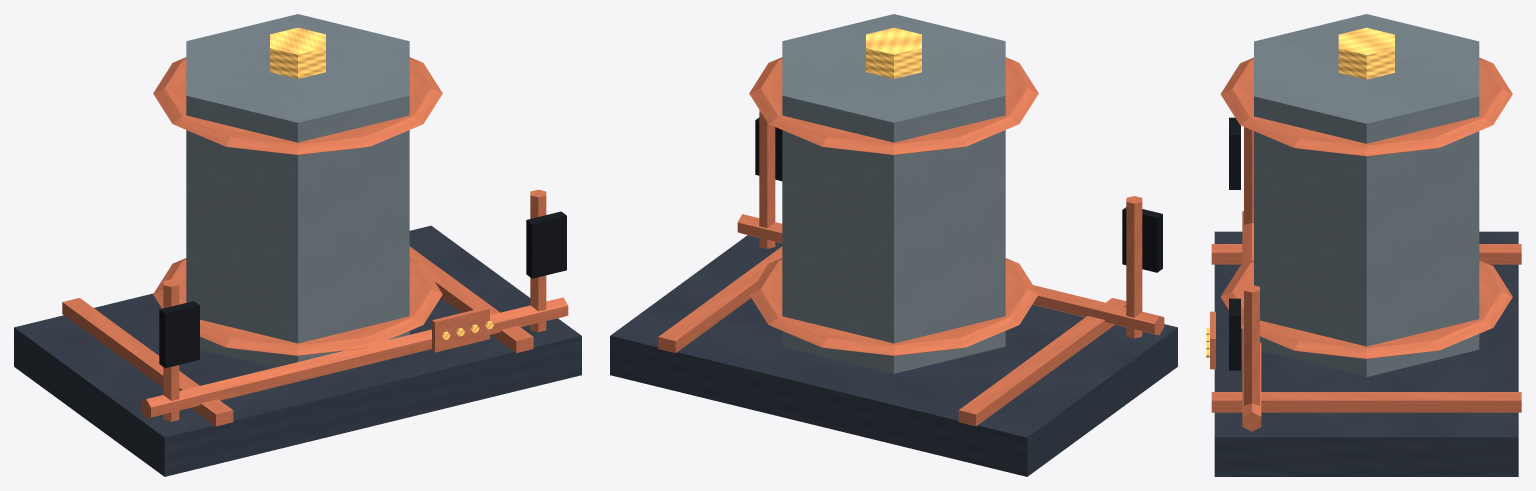
The model's file is atlas100-s021-a06.glb.
3 renders of one model, left to right at view 1: azimuth 30°, elevation 25°; view 2: azimuth 150°, elevation 25°; view 3: azimuth 270°, elevation 25°, orthographic.
Visible parts, largest first — view 1: atlas100-s021-a06:part-003, atlas100-s021-a06:part-000, atlas100-s021-a06:part-005, atlas100-s021-a06:part-012, atlas100-s021-a06:part-004, atlas100-s021-a06:part-001, atlas100-s021-a06:part-006, atlas100-s021-a06:part-011, atlas100-s021-a06:part-009, atlas100-s021-a06:part-002, atlas100-s021-a06:part-013, atlas100-s021-a06:part-010 (+1 smaller); view 2: atlas100-s021-a06:part-003, atlas100-s021-a06:part-000, atlas100-s021-a06:part-004, atlas100-s021-a06:part-005, atlas100-s021-a06:part-001, atlas100-s021-a06:part-012, atlas100-s021-a06:part-002, atlas100-s021-a06:part-006, atlas100-s021-a06:part-008, atlas100-s021-a06:part-010, atlas100-s021-a06:part-009, atlas100-s021-a06:part-011; view 3: atlas100-s021-a06:part-003, atlas100-s021-a06:part-000, atlas100-s021-a06:part-005, atlas100-s021-a06:part-004, atlas100-s021-a06:part-002, atlas100-s021-a06:part-006, atlas100-s021-a06:part-010, atlas100-s021-a06:part-001, atlas100-s021-a06:part-012, atlas100-s021-a06:part-008, atlas100-s021-a06:part-011, atlas100-s021-a06:part-009 (+1 smaller).
Part boxes in pixels (x1,y1,x2,y2): atlas100-s021-a06:part-003: (186,14,409,367); atlas100-s021-a06:part-000: (14,225,581,476); atlas100-s021-a06:part-005: (153,57,442,154); atlas100-s021-a06:part-012: (141,297,568,418); atlas100-s021-a06:part-004: (153,258,442,355); atlas100-s021-a06:part-001: (62,298,233,426); atlas100-s021-a06:part-006: (270,27,325,78); atlas100-s021-a06:part-011: (526,211,566,278); atlas100-s021-a06:part-009: (159,301,199,368); atlas100-s021-a06:part-002: (409,246,533,353); atlas100-s021-a06:part-013: (432,307,489,352); atlas100-s021-a06:part-010: (530,189,546,332); atlas100-s021-a06:part-003: (782,14,1005,373); atlas100-s021-a06:part-000: (610,235,1177,476); atlas100-s021-a06:part-004: (749,258,1038,355); atlas100-s021-a06:part-005: (749,57,1038,154); atlas100-s021-a06:part-001: (958,298,1126,426); atlas100-s021-a06:part-012: (737,214,1164,335); atlas100-s021-a06:part-002: (658,246,782,353); atlas100-s021-a06:part-006: (866,27,921,78); atlas100-s021-a06:part-008: (1126,196,1142,338); atlas100-s021-a06:part-010: (759,110,775,248); atlas100-s021-a06:part-009: (1122,207,1162,272); atlas100-s021-a06:part-011: (755,117,782,181); atlas100-s021-a06:part-003: (1254,14,1479,376); atlas100-s021-a06:part-000: (1214,231,1518,476); atlas100-s021-a06:part-005: (1220,57,1512,156); atlas100-s021-a06:part-004: (1220,260,1512,358); atlas100-s021-a06:part-002: (1211,392,1521,412); atlas100-s021-a06:part-006: (1338,27,1394,79); atlas100-s021-a06:part-010: (1244,285,1259,405); atlas100-s021-a06:part-001: (1211,244,1521,264); atlas100-s021-a06:part-012: (1242,211,1261,431); atlas100-s021-a06:part-008: (1244,127,1253,224); atlas100-s021-a06:part-011: (1229,298,1240,370); atlas100-s021-a06:part-009: (1229,117,1240,189).
Size of the model in its own units: 2.88 by 2.18 by 1.87.
Materials: 5 (5 with a texture image).
